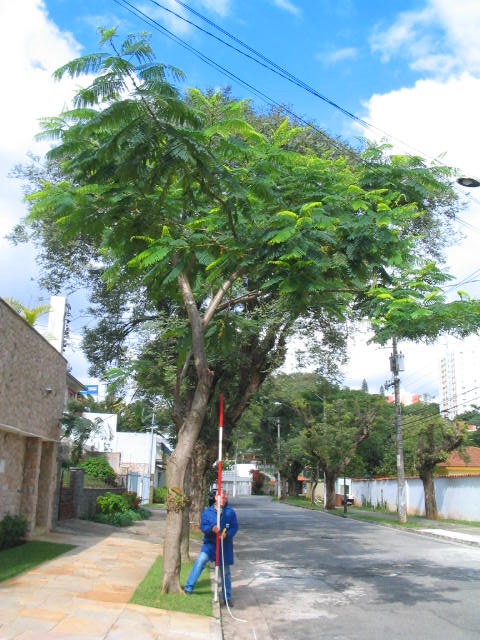crown: (40, 28, 431, 338)
stem: (146, 323, 216, 593), (411, 469, 452, 517), (314, 469, 347, 509)
stick: (204, 391, 237, 601)
tree: (36, 25, 434, 595), (298, 398, 382, 509), (410, 426, 466, 518)
